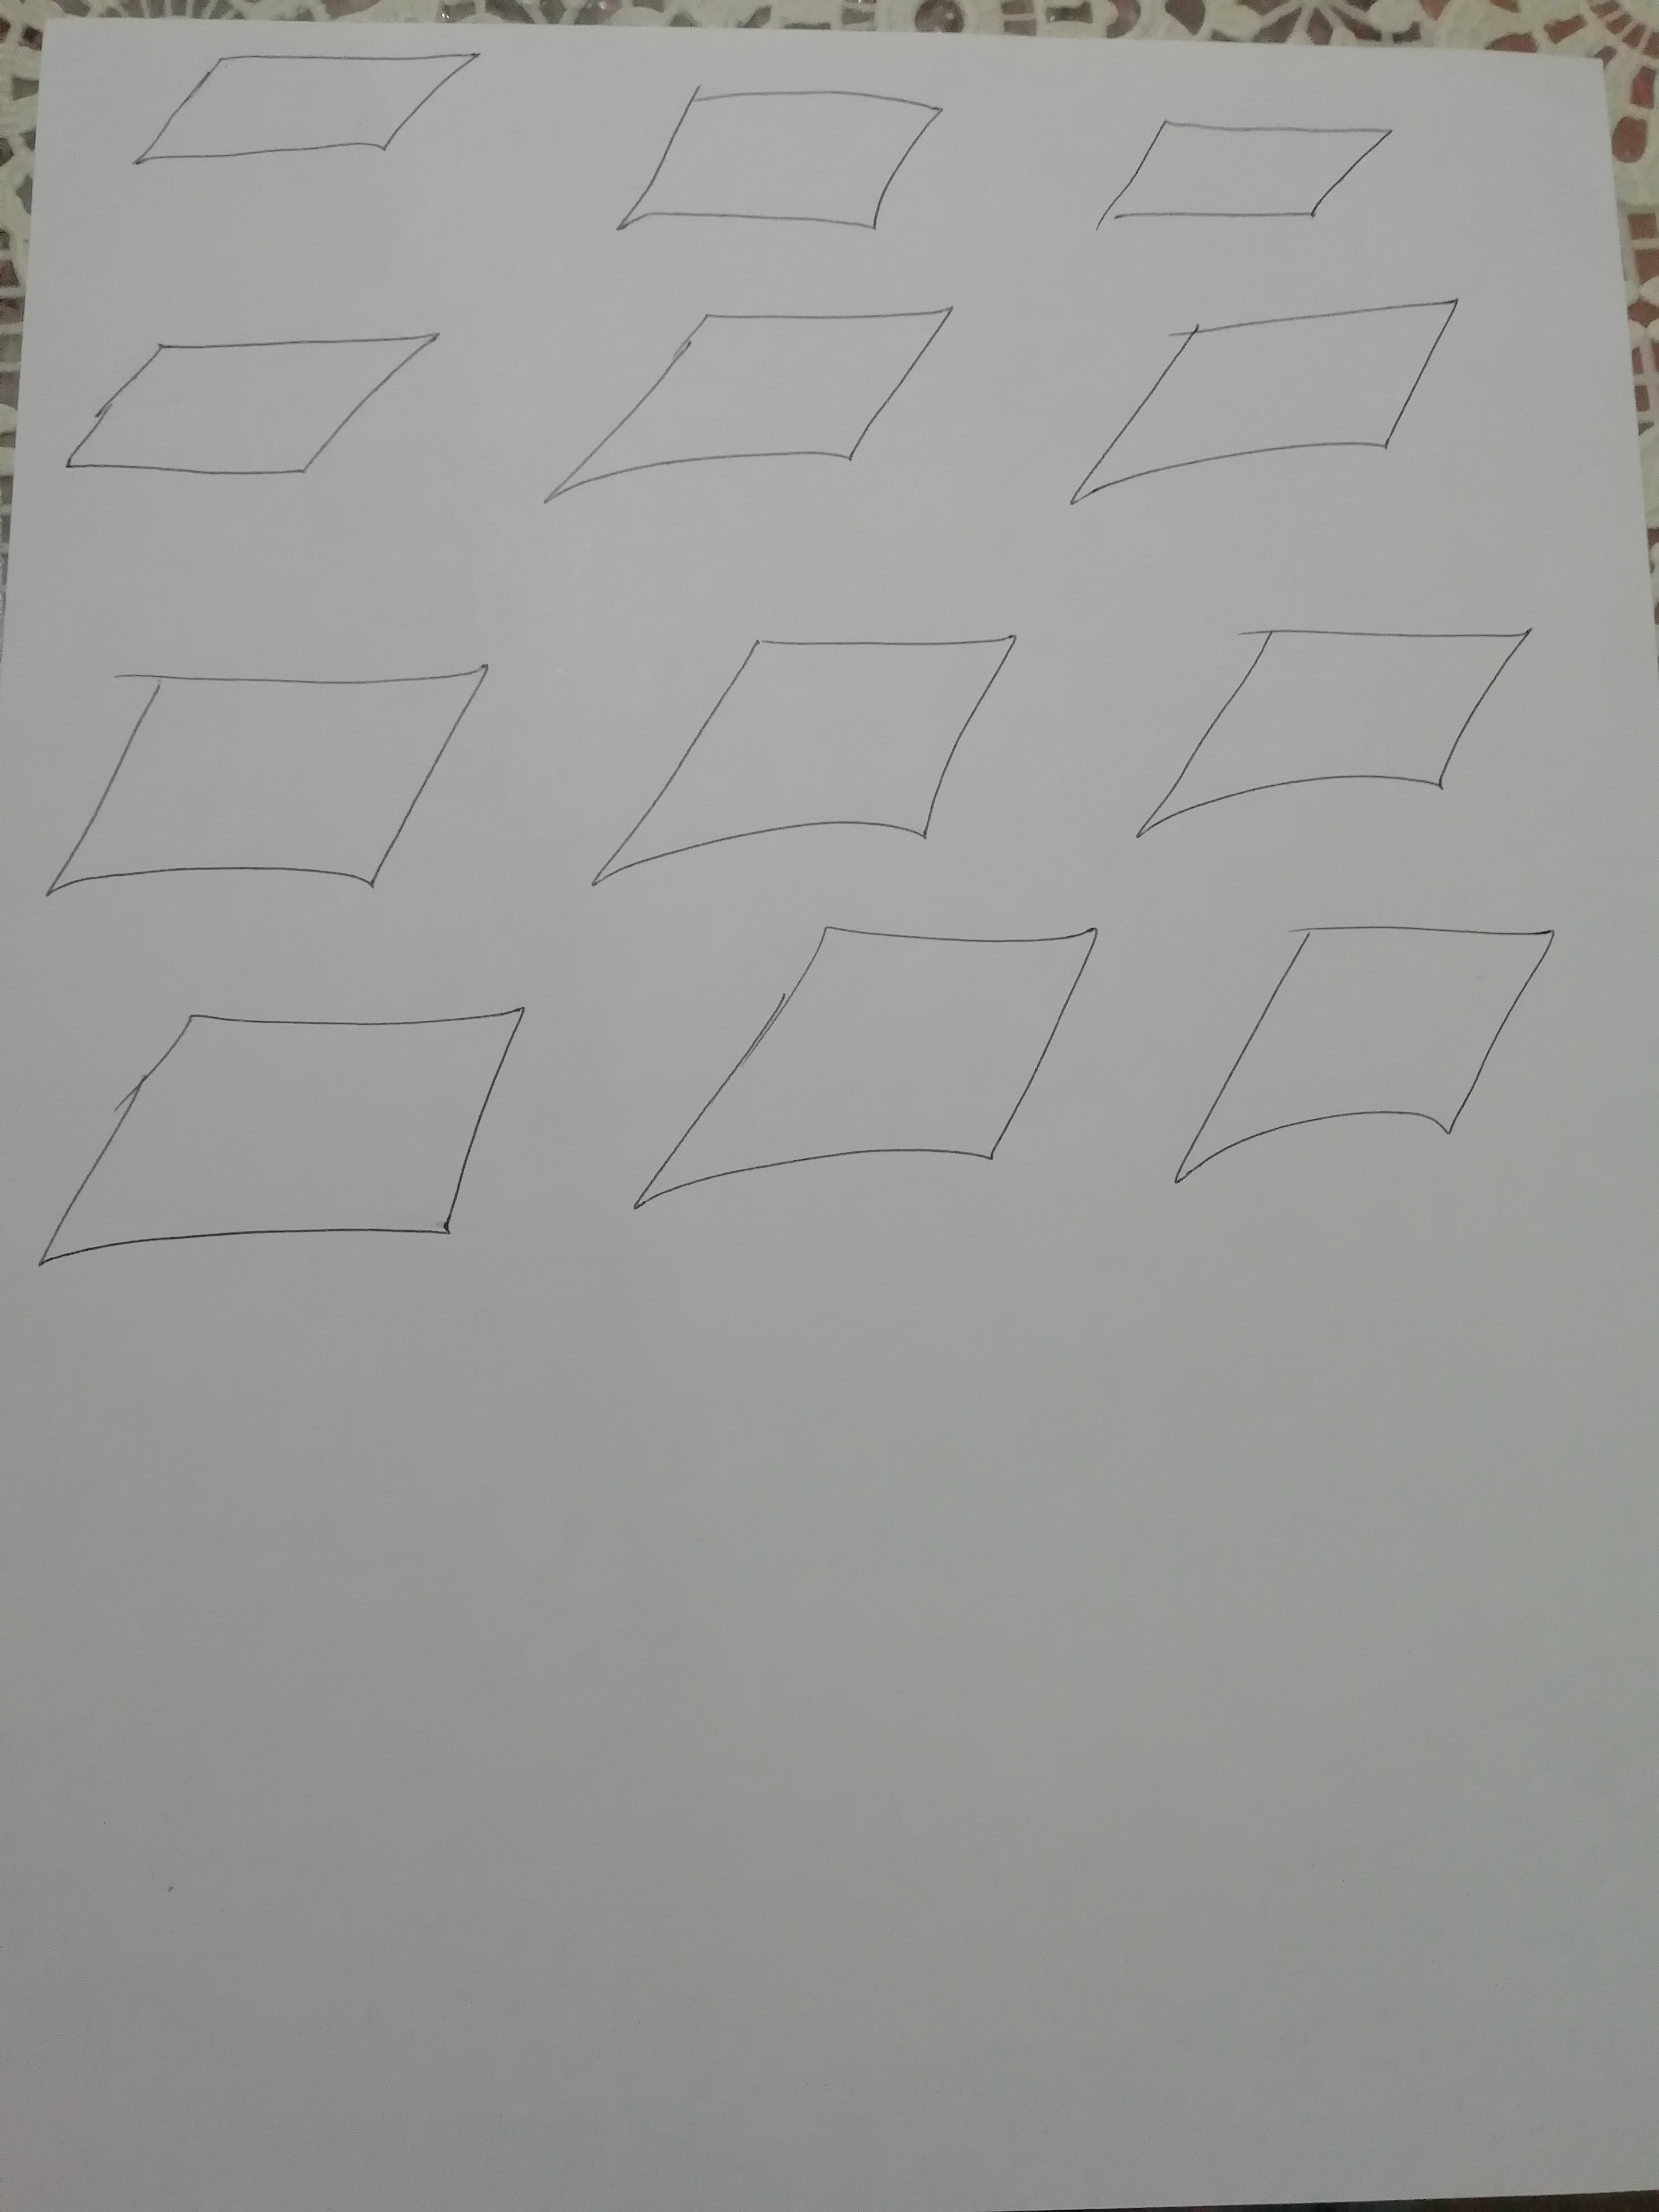scan: (619, 900, 1115, 1254), (16, 993, 547, 1287), (1143, 897, 1600, 1230), (30, 634, 516, 935), (551, 599, 1040, 894), (1122, 592, 1572, 873), (1040, 280, 1480, 524), (526, 294, 972, 521), (33, 298, 462, 521), (582, 38, 969, 263), (94, 31, 509, 206), (1072, 103, 1424, 256)
